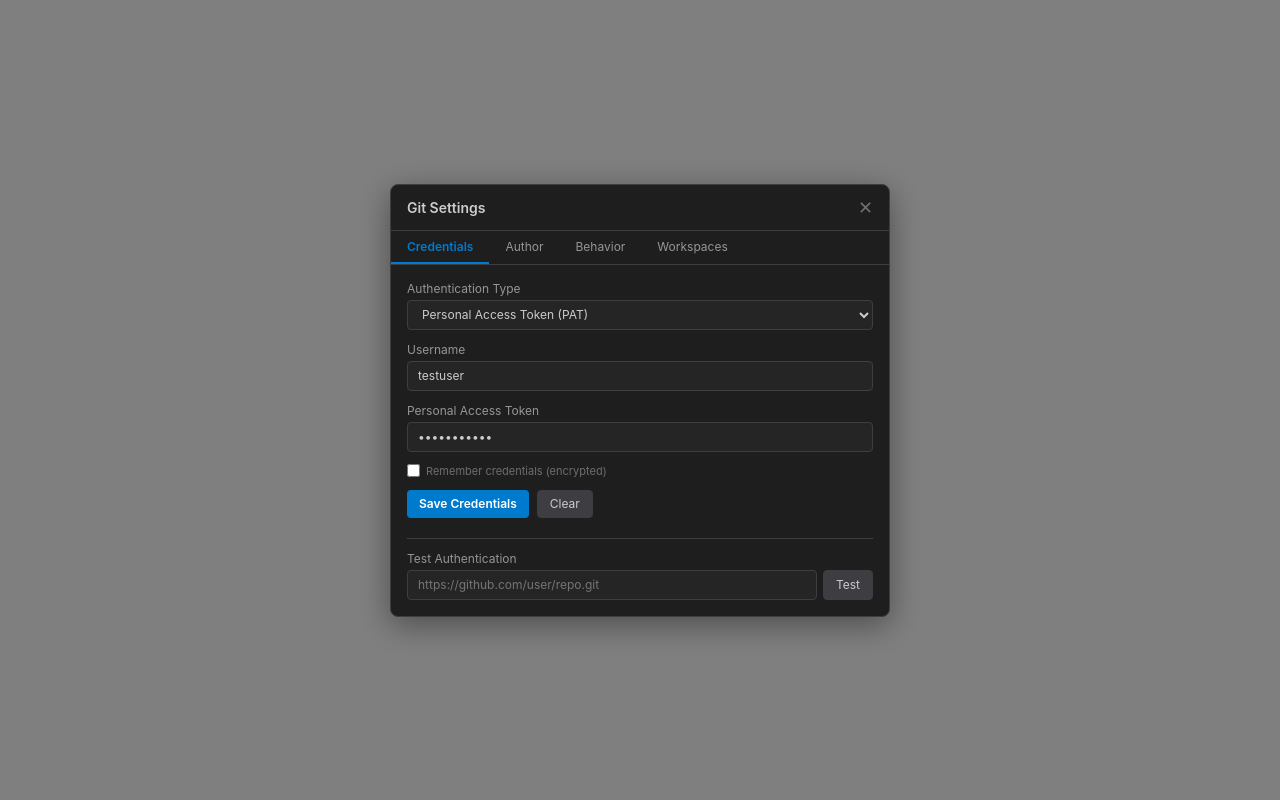
Test case: GitSettingsViewPresenter › Workspaces tab › shows "No browser workspaces" when empty
This screenshot has width=1280, height=800.
Click the text "Workspaces" at x=693, y=246, box [657,238,728,254]
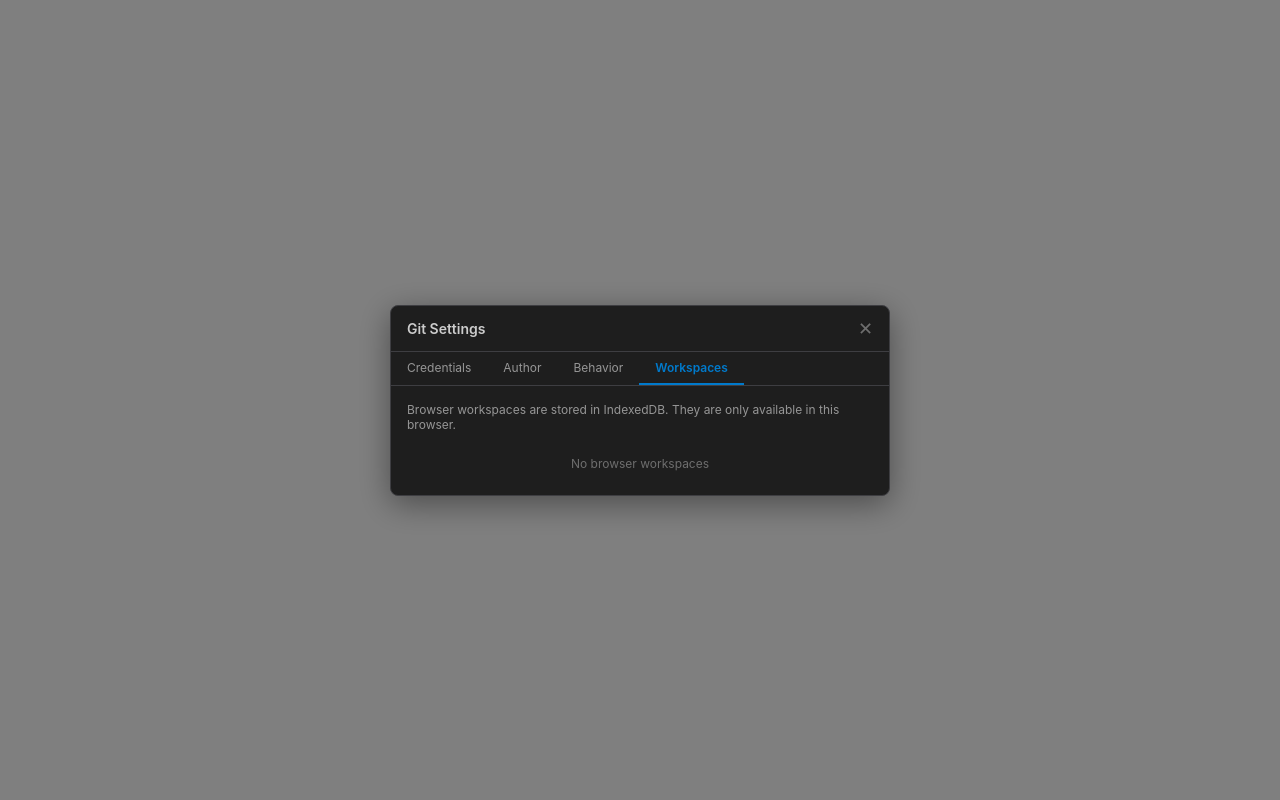
Result: the text "No browser workspaces" is shown at [571,456,709,470]
